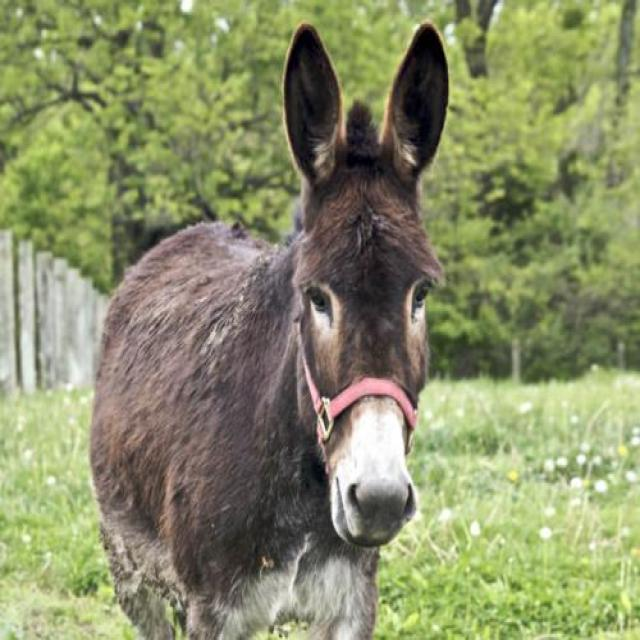Donkey: (91, 22, 448, 640)
